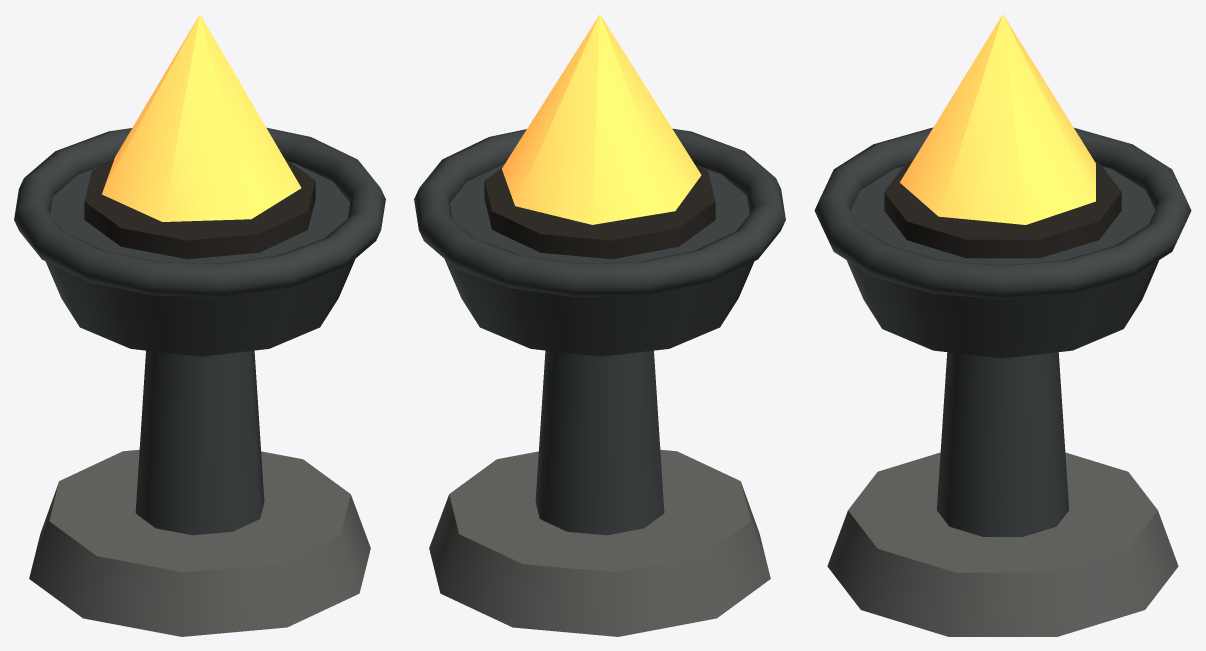
File: sk_brazier.glb
3 views of the same model, side by side, from view 1: azimuth 30°, elevation 25°; view 2: azimuth 150°, elevation 25°; view 3: azimuth 270°, elevation 25° (orthographic).
Visible parts, largest first — view 1: object 3, stone, object 2; view 2: object 3, stone, object 2; view 3: object 3, stone, object 2.
Boxes of the visible parts, left/top/right/bottom form: object 3: left=14, top=127, right=385, bottom=535; stone: left=29, top=157, right=370, bottom=636; object 2: left=102, top=14, right=301, bottom=221; object 3: left=414, top=128, right=785, bottom=535; stone: left=429, top=164, right=770, bottom=636; object 2: left=502, top=14, right=701, bottom=224; object 3: left=814, top=127, right=1191, bottom=536; stone: left=827, top=160, right=1178, bottom=636; object 2: left=900, top=14, right=1095, bottom=224.
Size of the model in its own units: 0.73 by 1.18 by 0.73.
